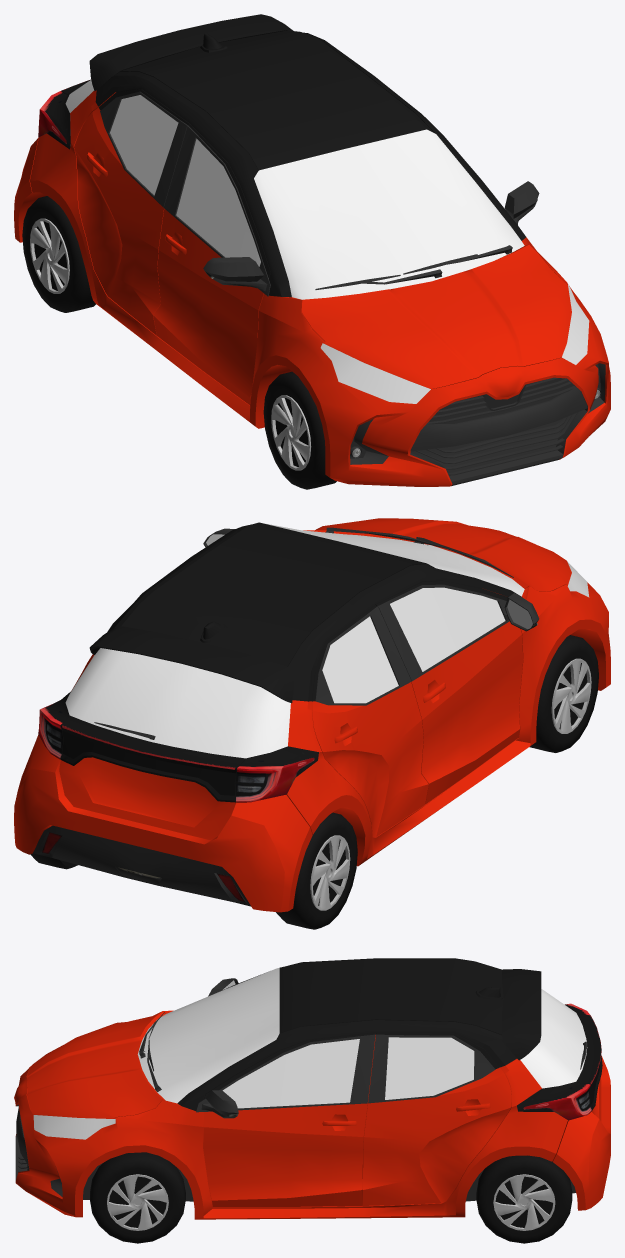
The model's file is HatchbackCar.fbx.
3 renders of one model, top to bottom at view 1: azimuth 30°, elevation 25°; view 2: azimuth 150°, elevation 25°; view 3: azimuth 270°, elevation 25°, orthographic. The views are drawn at different scales.
Parts seen in each view (by area): view 1: Body, Wheel_Back_R, Wheel_Front_R; view 2: Body, Wheel_Back_R, Wheel_Front_R; view 3: Body, Wheel_Front_L, Wheel_Back_L.
Boxes of the visible parts, <box> form: Body: <box>14,14,610,486</box>; Wheel_Back_R: <box>22,196,95,312</box>; Wheel_Front_R: <box>263,371,336,489</box>; Body: <box>14,518,610,912</box>; Wheel_Back_R: <box>276,812,357,929</box>; Wheel_Front_R: <box>529,635,598,752</box>; Body: <box>14,958,610,1219</box>; Wheel_Front_L: <box>90,1152,185,1243</box>; Wheel_Back_L: <box>476,1155,572,1243</box>.
Size of what is drawn, in the model's own units: 202 by 148 by 394.
